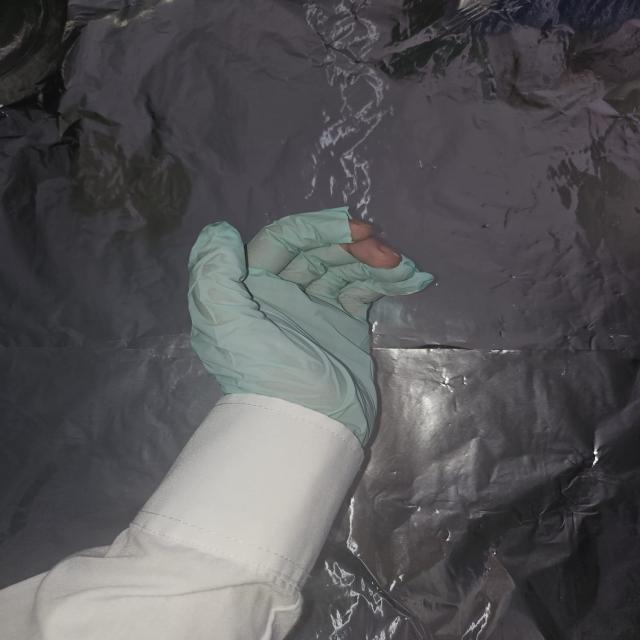gloves_damaged: (185, 204, 439, 446)
